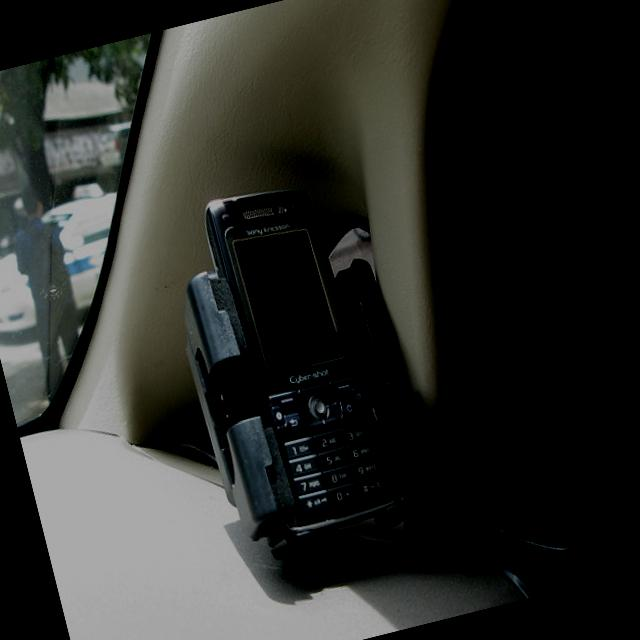Vehicle: (0, 186, 149, 348)
